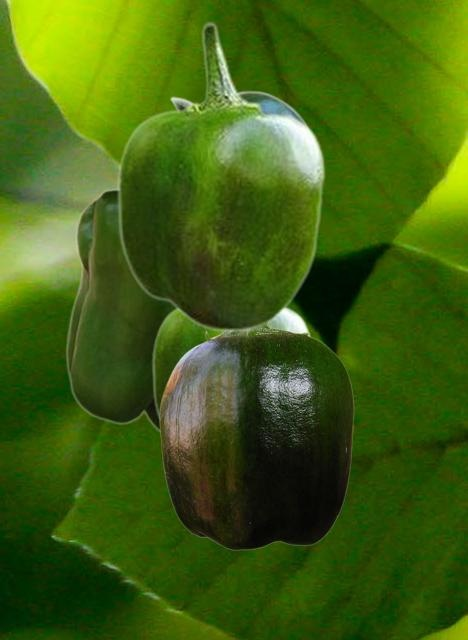bell_pepper: (116, 21, 325, 332), (159, 325, 353, 549), (65, 188, 171, 432), (151, 306, 312, 425), (169, 90, 305, 120)
